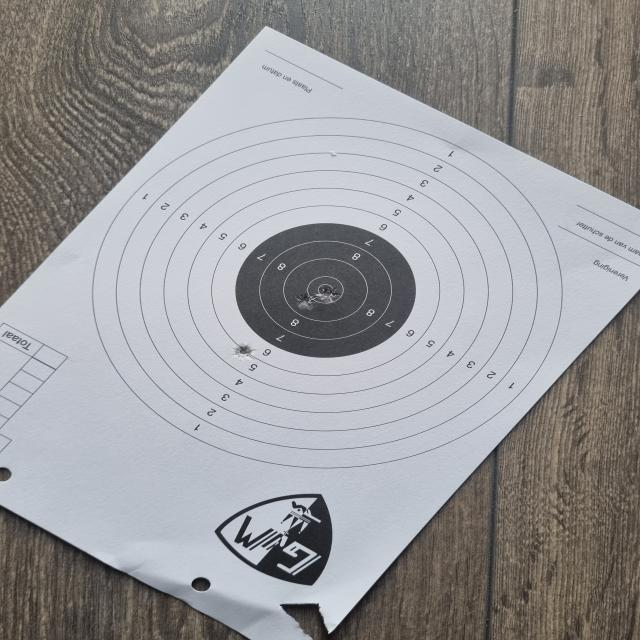10: (316, 287, 340, 302), (295, 294, 317, 310)
6: (231, 344, 257, 360)
Target: (93, 115, 563, 468)
black_contour: (235, 222, 418, 358)
